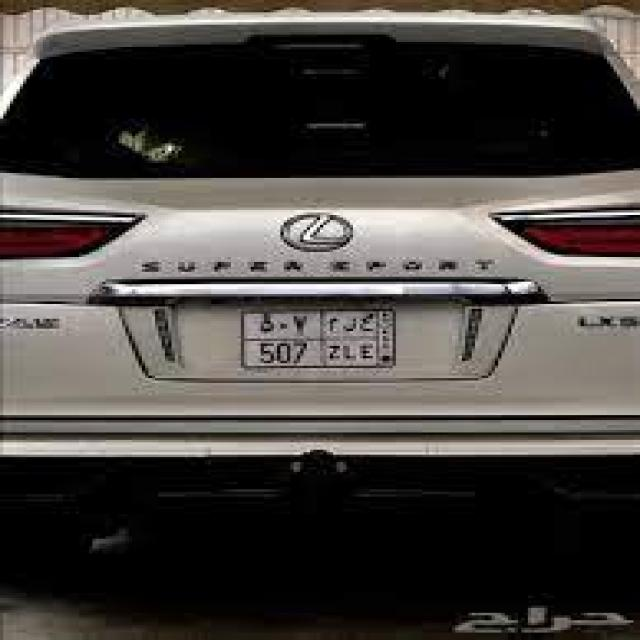license_plate: (238, 309, 399, 371)
